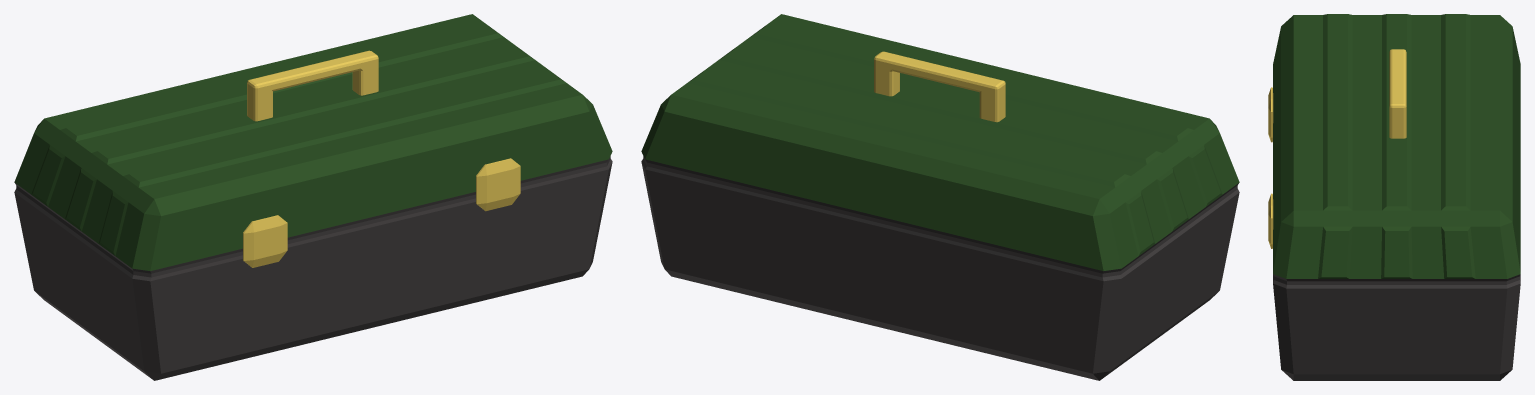
File: TOOL_BOX.fbx
The picture shows the model from 3 angles, left to right: view 1: azimuth 30°, elevation 25°; view 2: azimuth 150°, elevation 25°; view 3: azimuth 270°, elevation 25°; orthographic projection. The views are drawn at different scales.
Parts seen in each view (by area): view 1: TOOL_BOX; view 2: TOOL_BOX; view 3: TOOL_BOX.
Boxes of the visible parts, <box> form: TOOL_BOX: <box>14,14,612,380</box>; TOOL_BOX: <box>641,14,1239,380</box>; TOOL_BOX: <box>1268,14,1520,380</box>.
Bounding box in the file's own units: 41.64 × 18.19 × 20.16.
